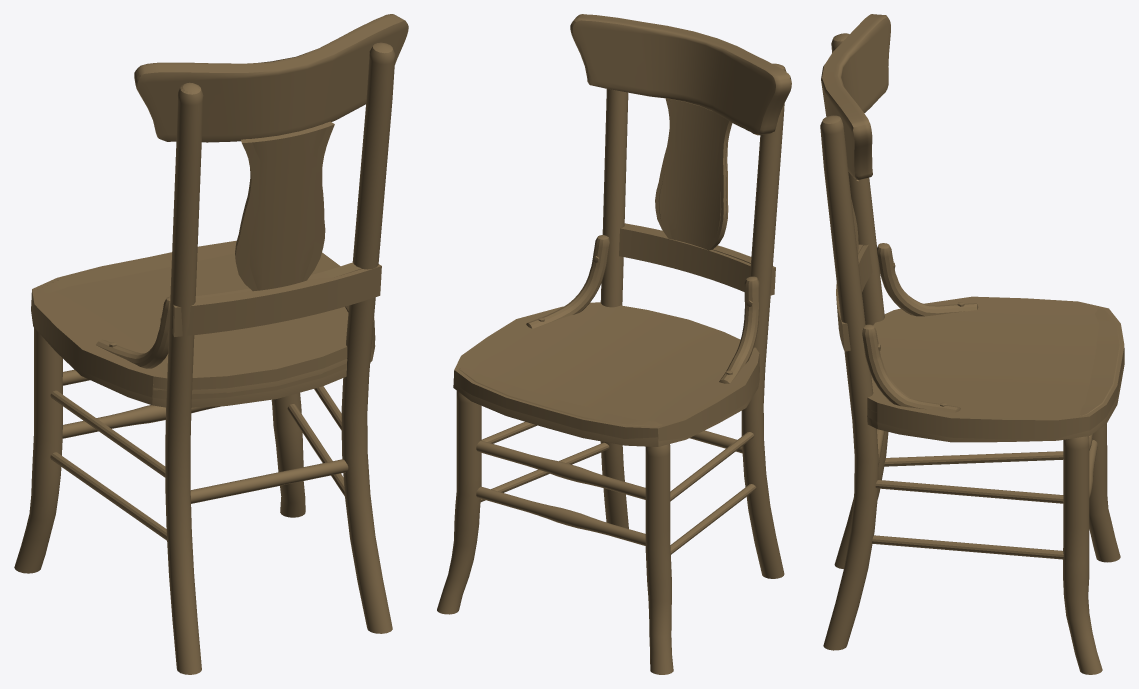
The model's file is Chair.fbx.
The picture shows the model from 3 angles, left to right: view 1: azimuth 30°, elevation 25°; view 2: azimuth 150°, elevation 25°; view 3: azimuth 270°, elevation 25°; orthographic projection. The views are drawn at different scales.
Visible parts, largest first — view 1: Chair6; view 2: Chair6; view 3: Chair6.
Part boxes in pixels (<box>): Chair6: <box>14,14,408,674</box>; Chair6: <box>437,14,791,674</box>; Chair6: <box>820,14,1124,674</box>.
Size of the model in its own units: 0.0351 by 0.0694 by 0.0355.
